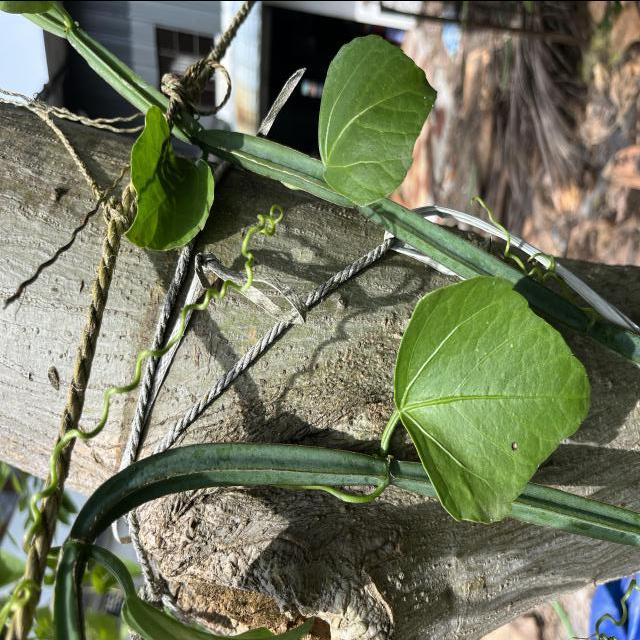Cissus quadrangularis: (389, 272, 593, 526), (314, 31, 441, 209)
